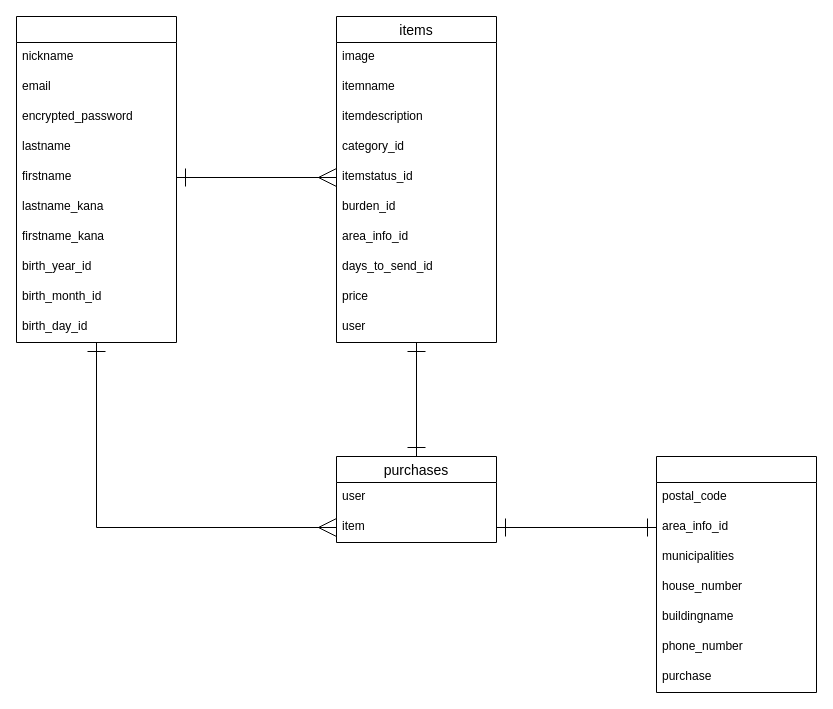
This 833x709 diagram has some shape labels left out. The box of each missing label's shape, as (x1, y1, x2, y2) in pixels:
shipping_addresses: (656, 456, 816, 692)
users: (16, 16, 176, 342)
